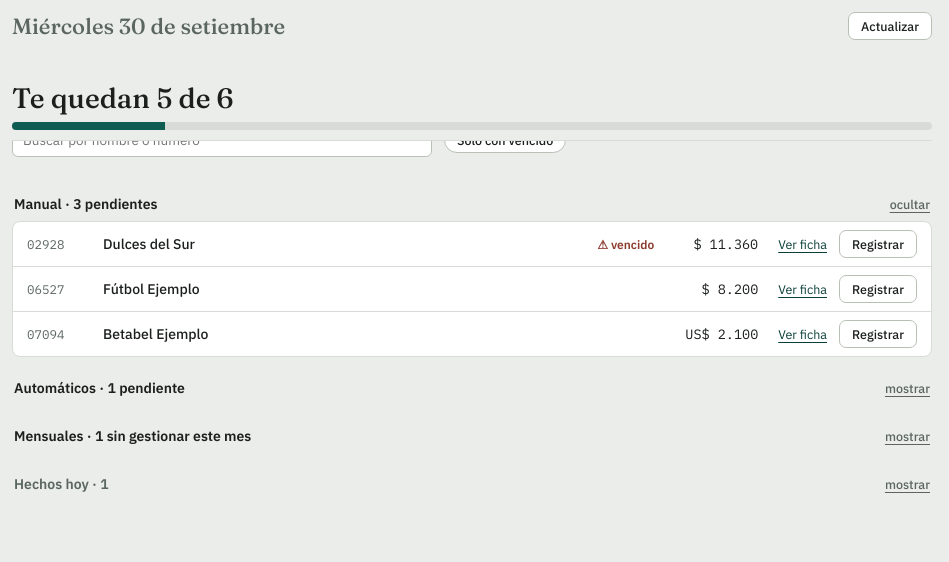
Test case: MiDiaPage: hechos hoy › los ya gestionados se cuentan en 'Hechos hoy', colapsado, y se pueden ver
Check: the text "Te quedan 5 de 6" is shown, box [12, 81, 234, 115]
Check: the text "Correo Dos" is not shown
Click the button "Hechos hoy · 1 mostrar": x=57, y=484 [12, 467, 932, 501]
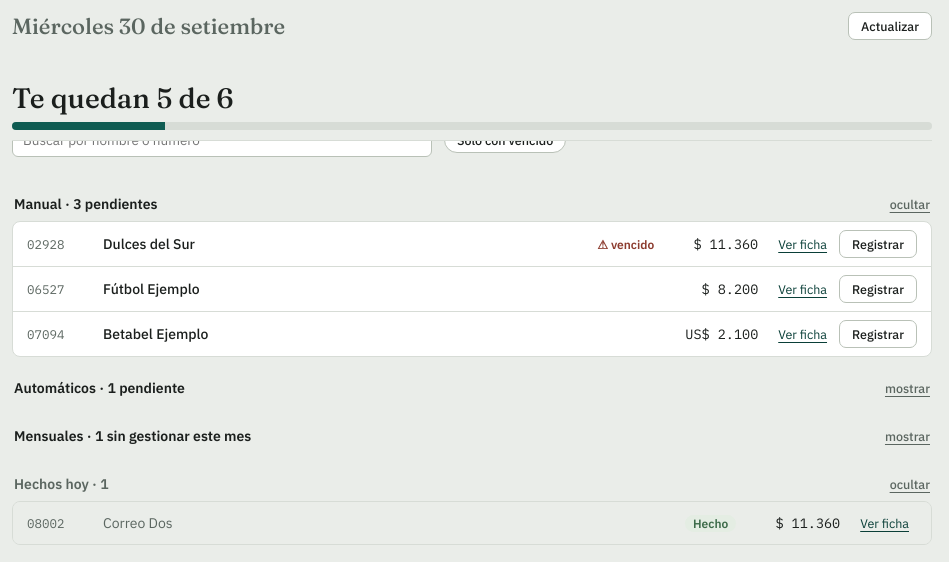
Check: the text "Correo Dos" is shown, box [103, 514, 173, 532]
